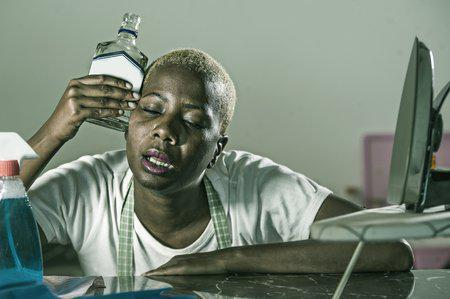Drunk: (131, 72, 211, 186)
